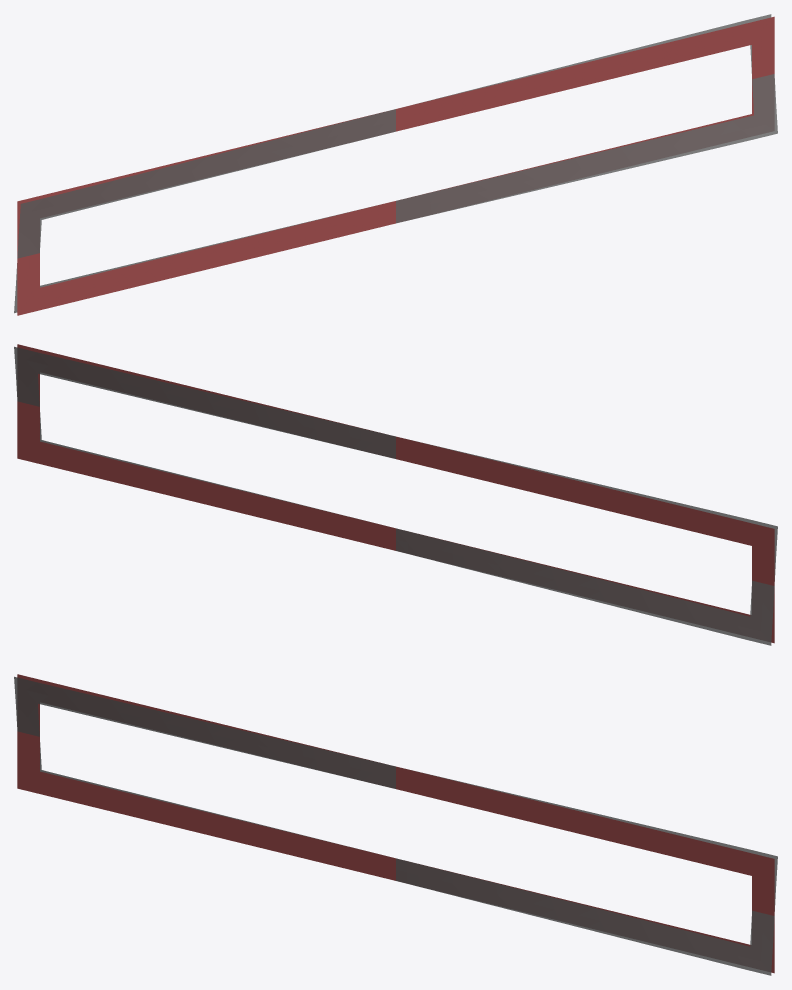
File: warping-box-39-270-8-8-264.glb
3 views of the same model, one above another, from view 1: azimuth 30°, elevation 25°; view 2: azimuth 150°, elevation 25°; view 3: azimuth 330°, elevation 25° (orthographic).
Visible parts, largest first — view 1: undeformed cross-section, cross-section with warping; view 2: undeformed cross-section, cross-section with warping; view 3: undeformed cross-section, cross-section with warping.
Part boxes in pixels (x1=…): undeformed cross-section: x1=17, y1=16, x2=774, y2=315; cross-section with warping: x1=14, y1=14, x2=777, y2=313; undeformed cross-section: x1=17, y1=344, x2=774, y2=643; cross-section with warping: x1=14, y1=346, x2=777, y2=645; undeformed cross-section: x1=17, y1=674, x2=774, y2=973; cross-section with warping: x1=14, y1=676, x2=777, y2=975.
Bounding box in the file's own units: 0.27 × 0.039 × 0.00426.
